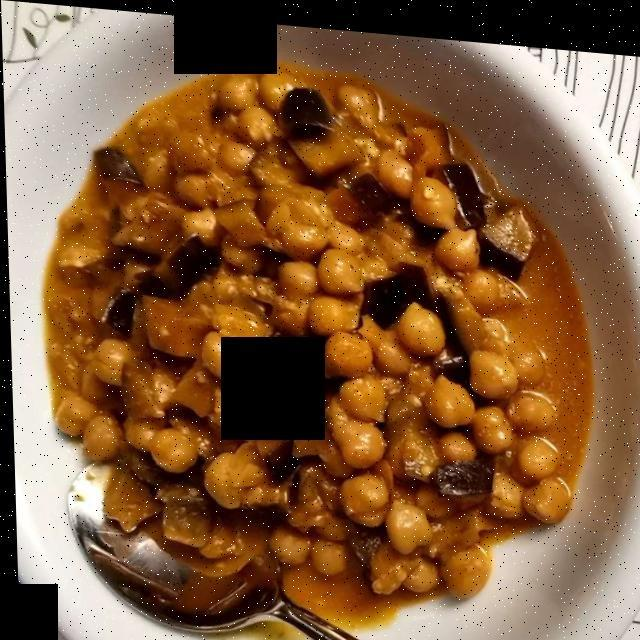chickpeas: (61, 76, 572, 603)
eggplant: (87, 84, 534, 569)
milk: (511, 241, 578, 418)
